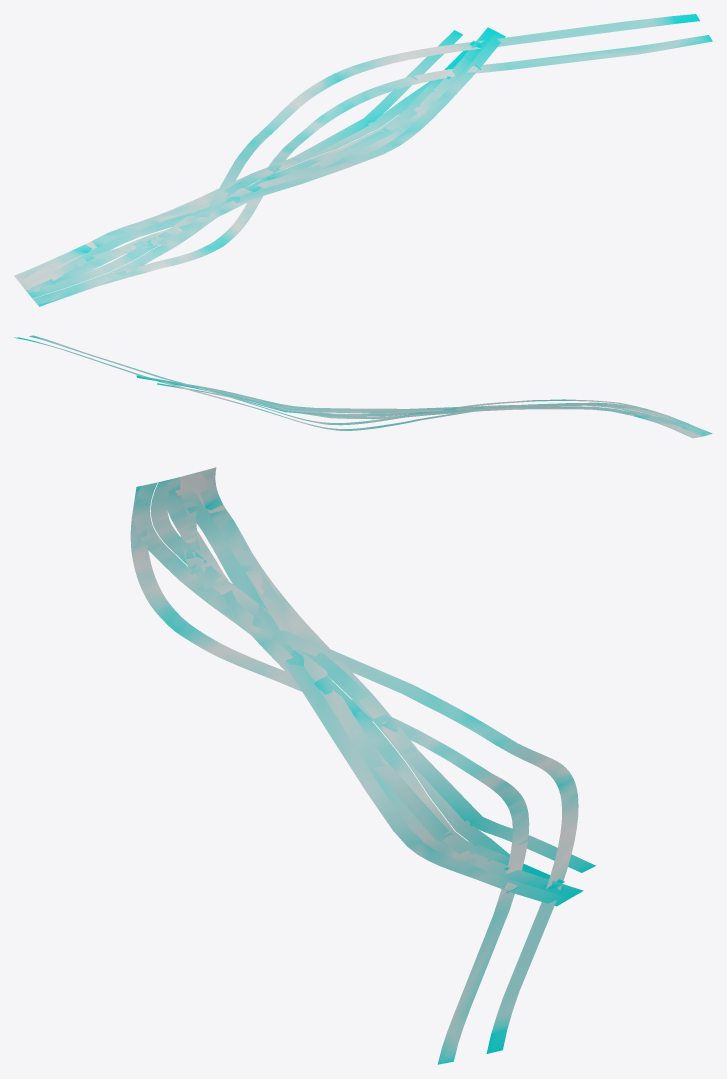
3 views of the same model, one above another, from view 1: azimuth 30°, elevation 25°; view 2: azimuth 150°, elevation 25°; view 3: azimuth 270°, elevation 25° (orthographic). The views are drawn at different scales.
Parts seen in each view (by area): view 1: SpaceCenter_Long3_GenerateRoad_Sand_TireTracks_Narrow_Mesh_x; view 2: SpaceCenter_Long3_GenerateRoad_Sand_TireTracks_Narrow_Mesh_x; view 3: SpaceCenter_Long3_GenerateRoad_Sand_TireTracks_Narrow_Mesh_x.
Part boxes in pixels (<box>): SpaceCenter_Long3_GenerateRoad_Sand_TireTracks_Narrow_Mesh_x: <box>14,14,712,306</box>; SpaceCenter_Long3_GenerateRoad_Sand_TireTracks_Narrow_Mesh_x: <box>14,335,712,438</box>; SpaceCenter_Long3_GenerateRoad_Sand_TireTracks_Narrow_Mesh_x: <box>130,467,595,1064</box>.
Bounding box in the file's own units: 612 × 1843 × 99.99.
